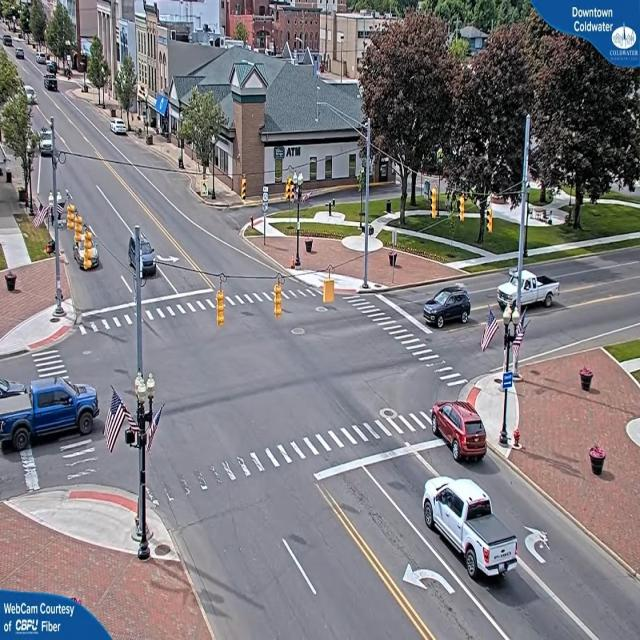car: (421, 477, 515, 583), (5, 377, 100, 452), (433, 400, 489, 464), (421, 284, 475, 328), (524, 267, 563, 309), (132, 239, 157, 278), (111, 121, 130, 138)
truck: (40, 122, 56, 156)
